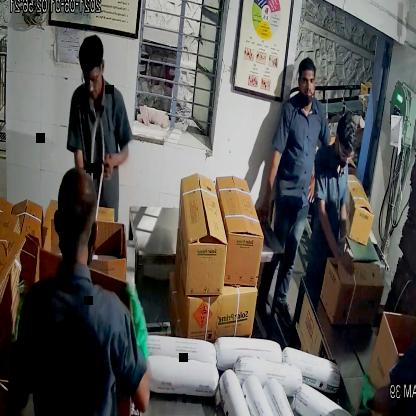goggles: (77, 64, 107, 93), (334, 138, 361, 164)
